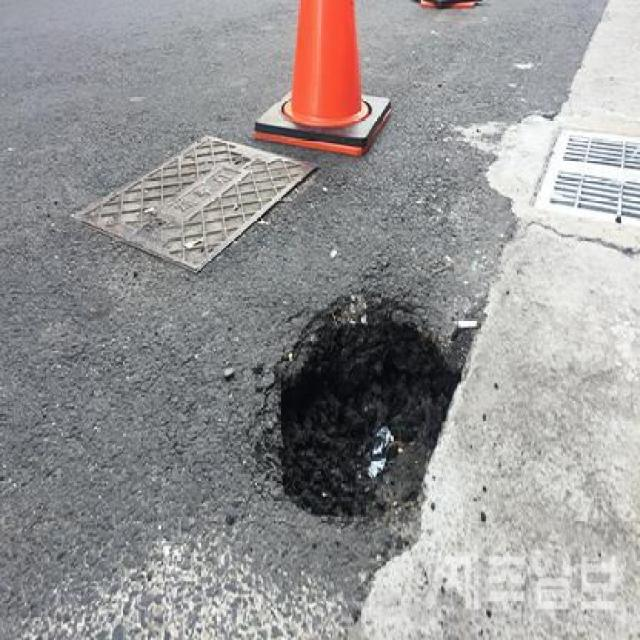Pothole: (266, 282, 468, 546)
